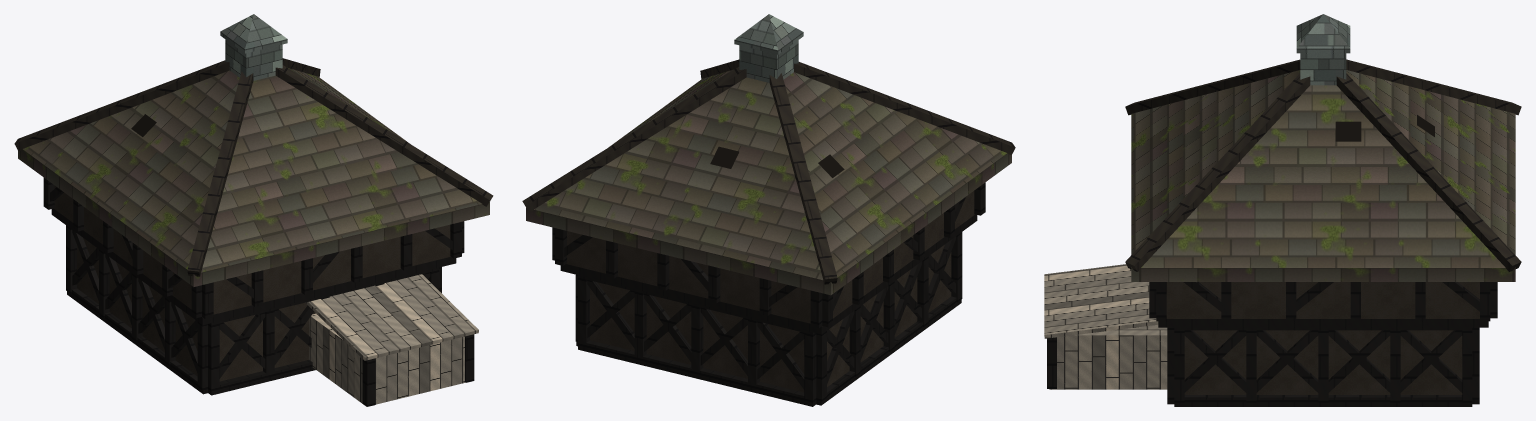
File: Arabuild03.glb
The picture shows the model from 3 angles, left to right: view 1: azimuth 30°, elevation 25°; view 2: azimuth 150°, elevation 25°; view 3: azimuth 270°, elevation 25°; orthographic projection. The views are drawn at different scales.
Visible parts, largest first — view 1: Arabuild03_hwall; view 2: Arabuild03_hwall; view 3: Arabuild03_hwall.
Part boxes in pixels (left/top/right/bottom): Arabuild03_hwall: left=14, top=14, right=493, bottom=406; Arabuild03_hwall: left=522, top=14, right=1015, bottom=406; Arabuild03_hwall: left=1044, top=14, right=1521, bottom=406.
Size of the model in its own units: 7.55 by 7.1 by 9.32.
Materials: 7 (6 with a texture image).
